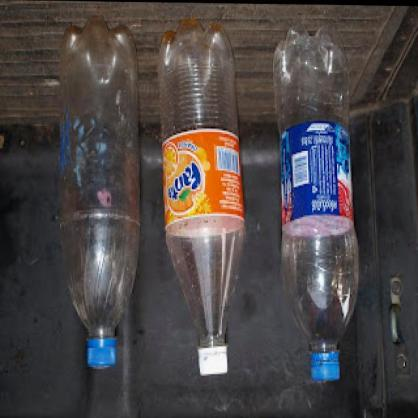bottle: (156, 18, 246, 372), (272, 21, 360, 381), (59, 14, 140, 368)
cap: (86, 332, 116, 369), (309, 349, 341, 379), (198, 343, 228, 374)
label: (279, 119, 357, 225), (162, 128, 246, 226)
